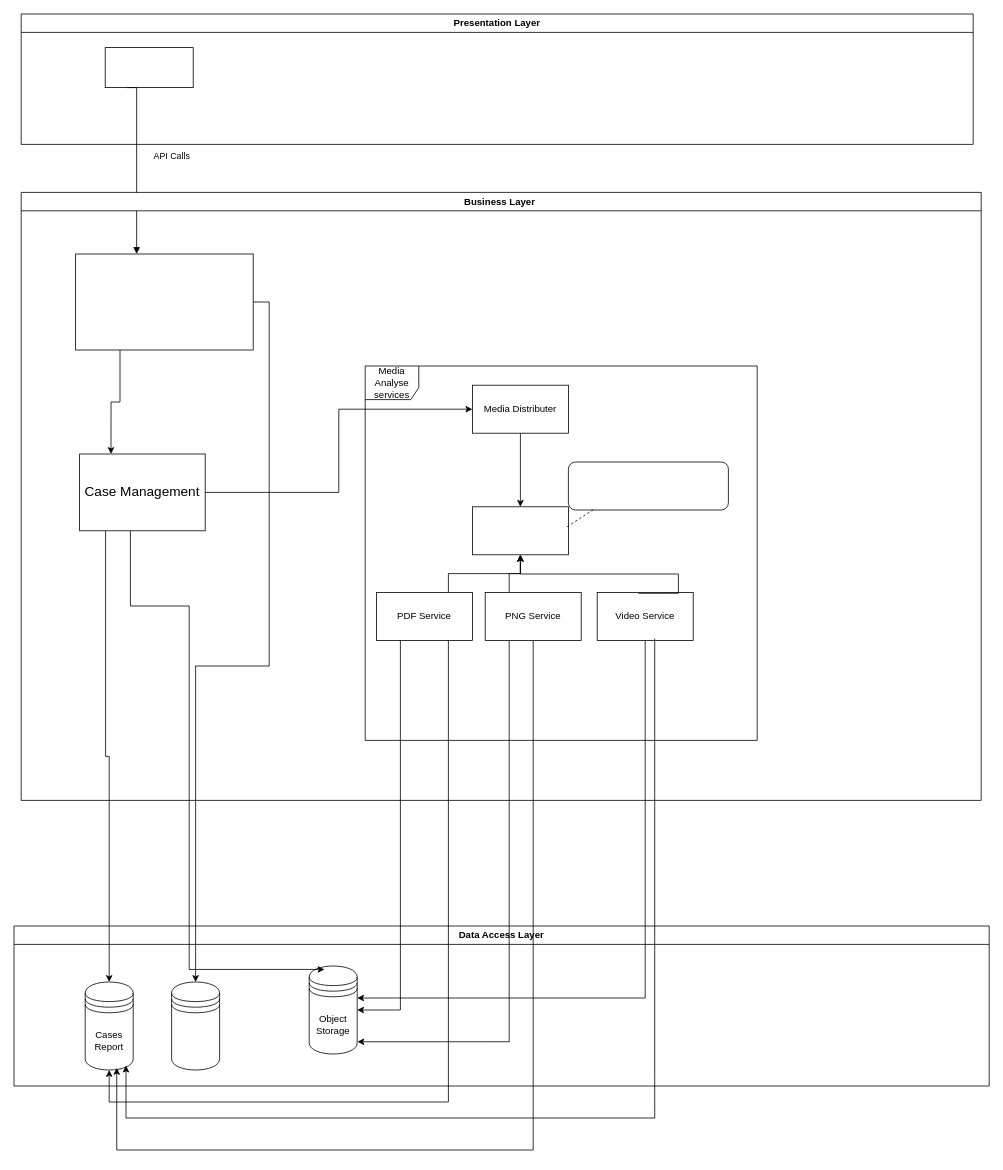
Image size: 1003x1170. Some labels were removed from this diagram. The centre of each missing label's shape, as x and y in pixels:
Media Service: point (520, 530)
meta data analysis --> Ai analyser: point (648, 485)
UI Pages: point (148, 67)
User_db: point (195, 1025)
Verifer Gateway: point (164, 301)
